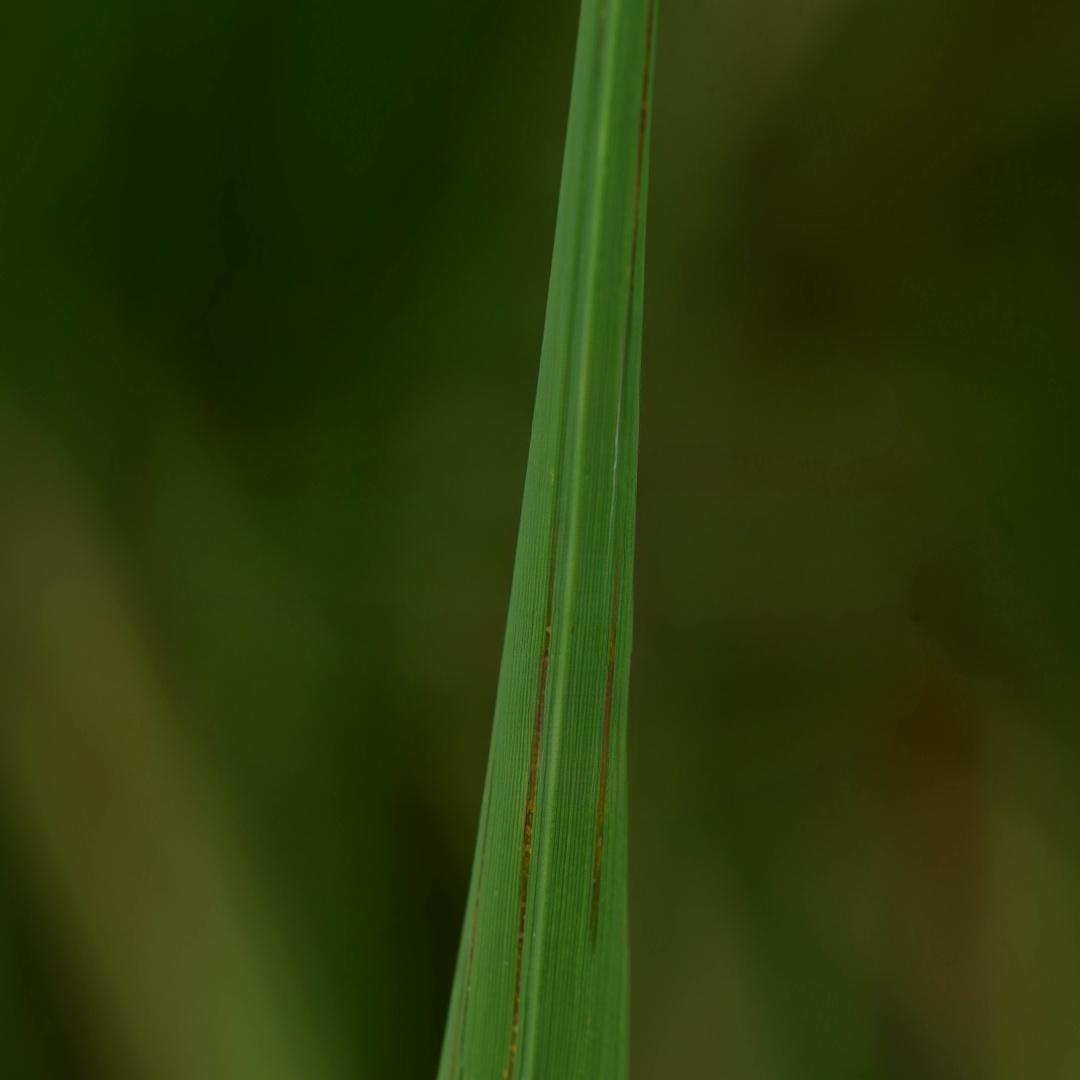BLS: (503, 558, 554, 1078), (620, 1, 655, 388), (588, 560, 620, 954), (461, 746, 496, 1060)
LEAF: (437, 0, 658, 1079)
